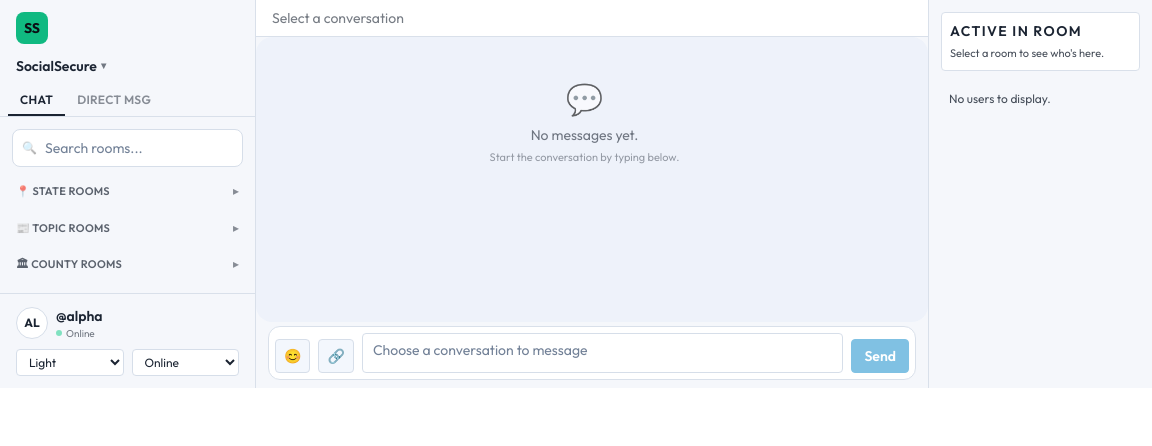
Chat zip room indicator › uses readable light-theme category pills and compact DM conversation row sizing
Click the button "📍 State Rooms ▸". click: {"x": 128, "y": 191}
box: x1=12 y1=179 x2=243 y2=204
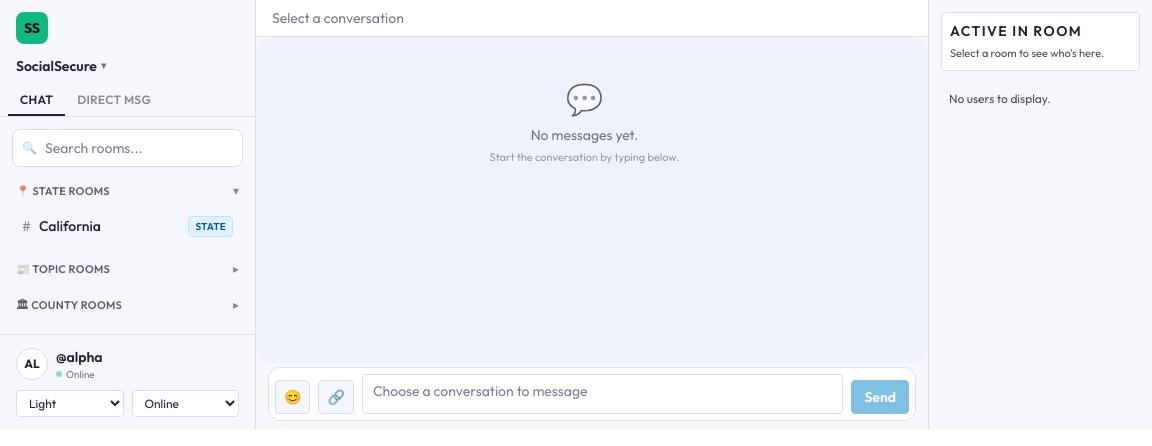
Click the tab "DIRECT MSG". click: {"x": 114, "y": 100}
box: x1=65 y1=84 x2=163 y2=116
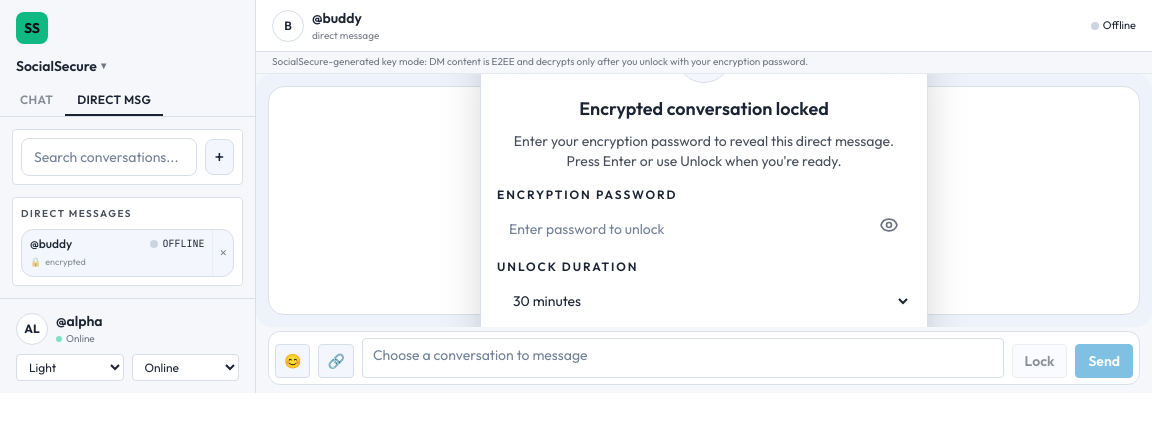
Now the button "@buddy Offline 🔒 encrypted" is shown, box x1=22 y1=230 x2=212 y2=276
